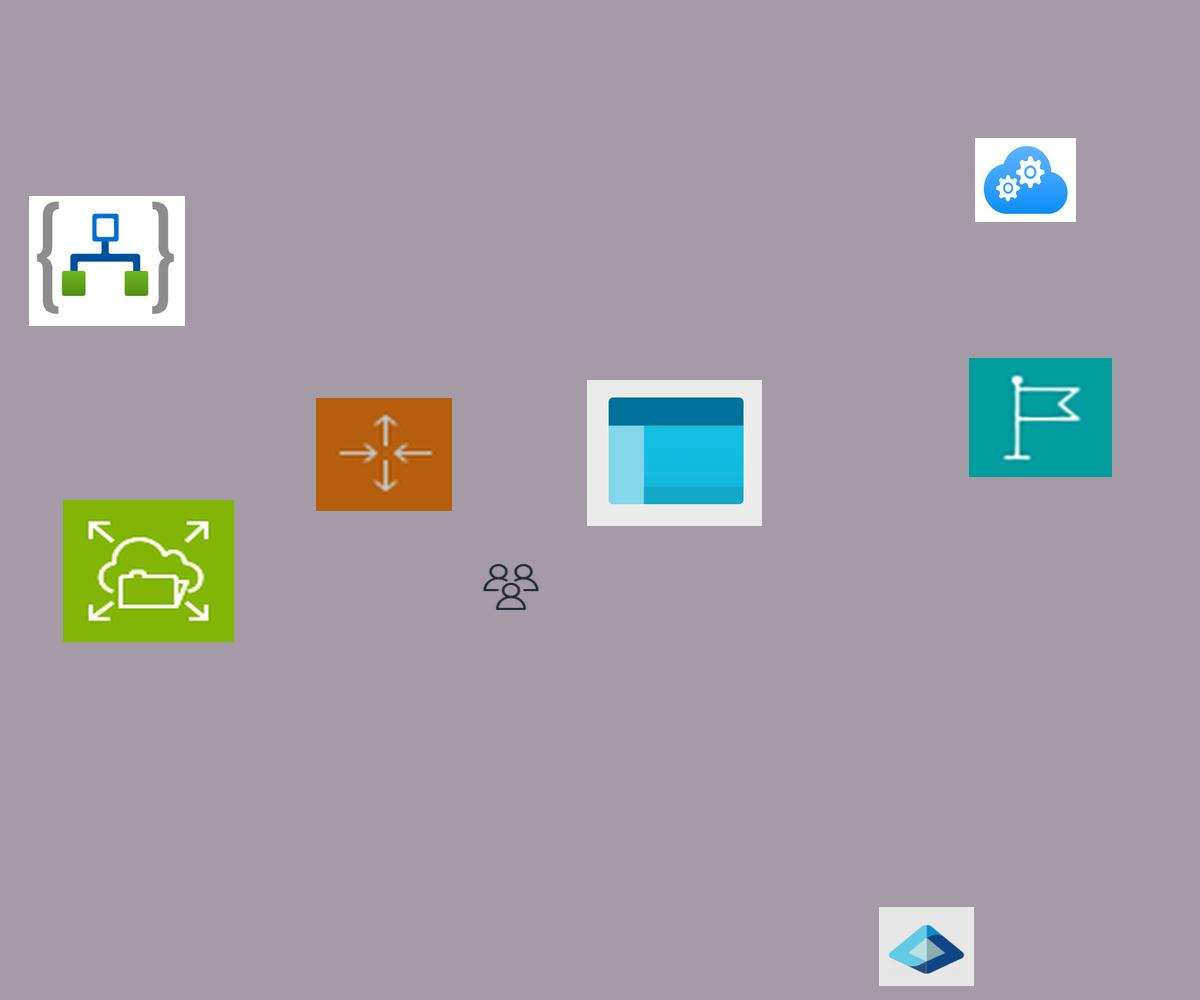AWS-EFS: (63, 500, 234, 642)
AWS-Region: (969, 358, 1112, 477)
AWS-Res_Users: (481, 562, 541, 612)
AWS-Scaling-group: (316, 398, 452, 511)
Azure_cloud_services: (975, 138, 1076, 222)
Azure_integration-204-Logic-Apps: (29, 196, 185, 326)
Azure_management-portal: (587, 380, 762, 526)
Azure_microsoft_entra: (879, 907, 974, 986)
